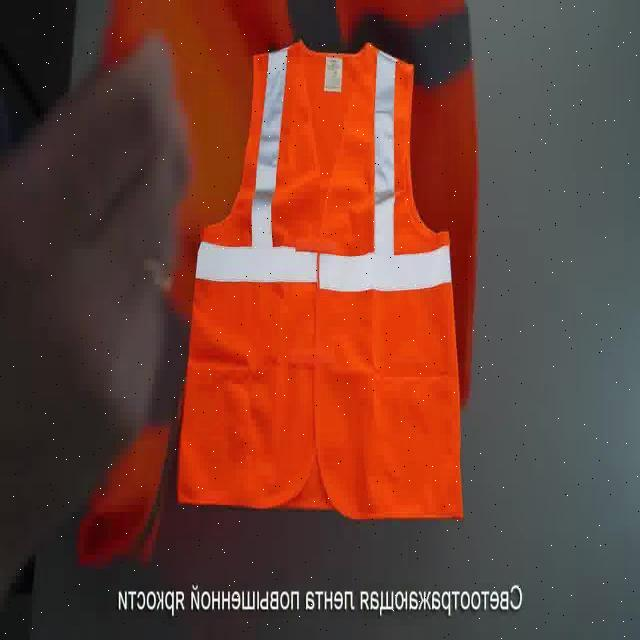Vest: (172, 4, 468, 504)
